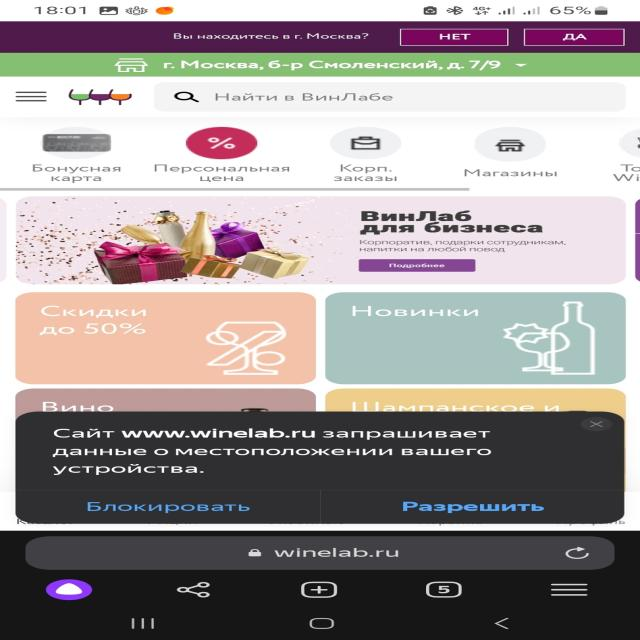button: (42, 495, 310, 518), (358, 494, 592, 517), (402, 28, 509, 46), (522, 28, 628, 46)
site: (2, 23, 640, 51)
system: (17, 413, 624, 521)
